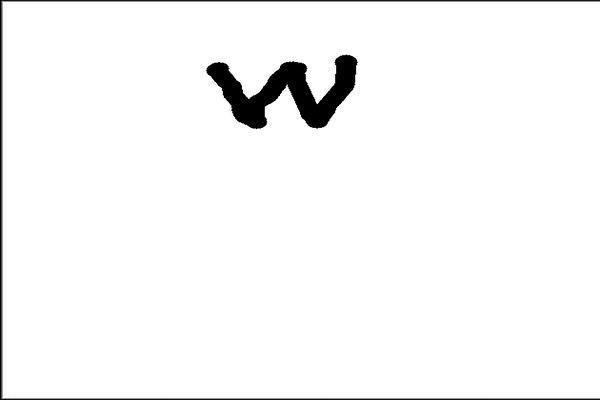w: (191, 45, 362, 145)
